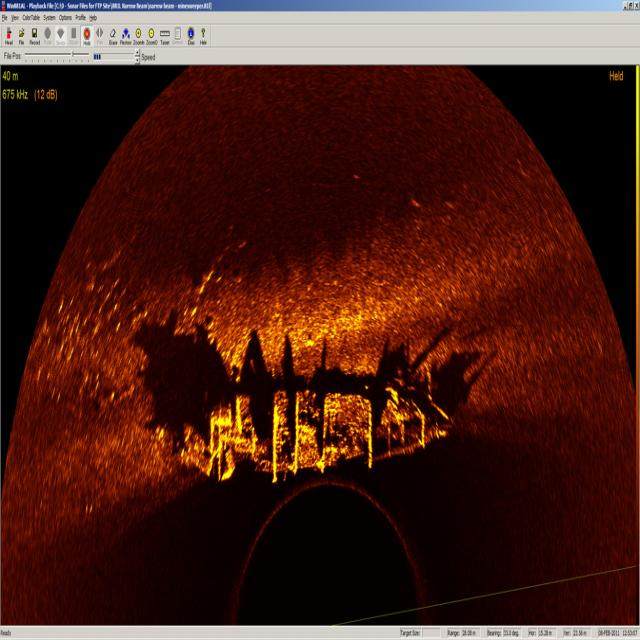ship: (179, 368, 454, 481)
